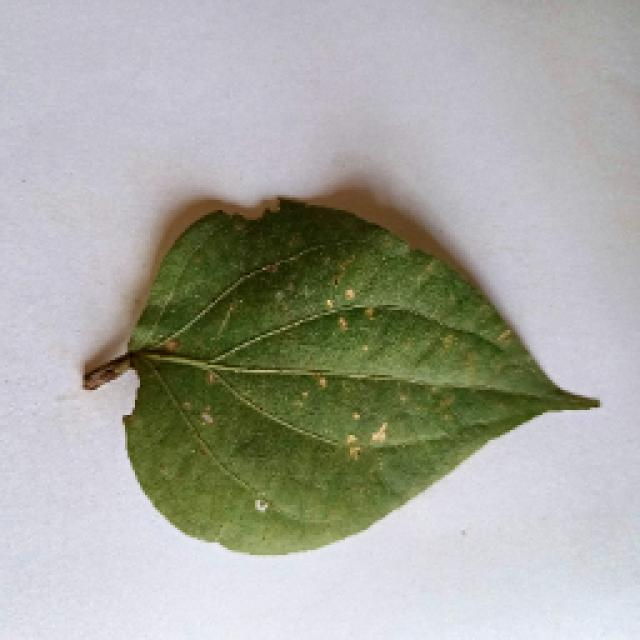pollu-disease: (62, 195, 598, 563)
